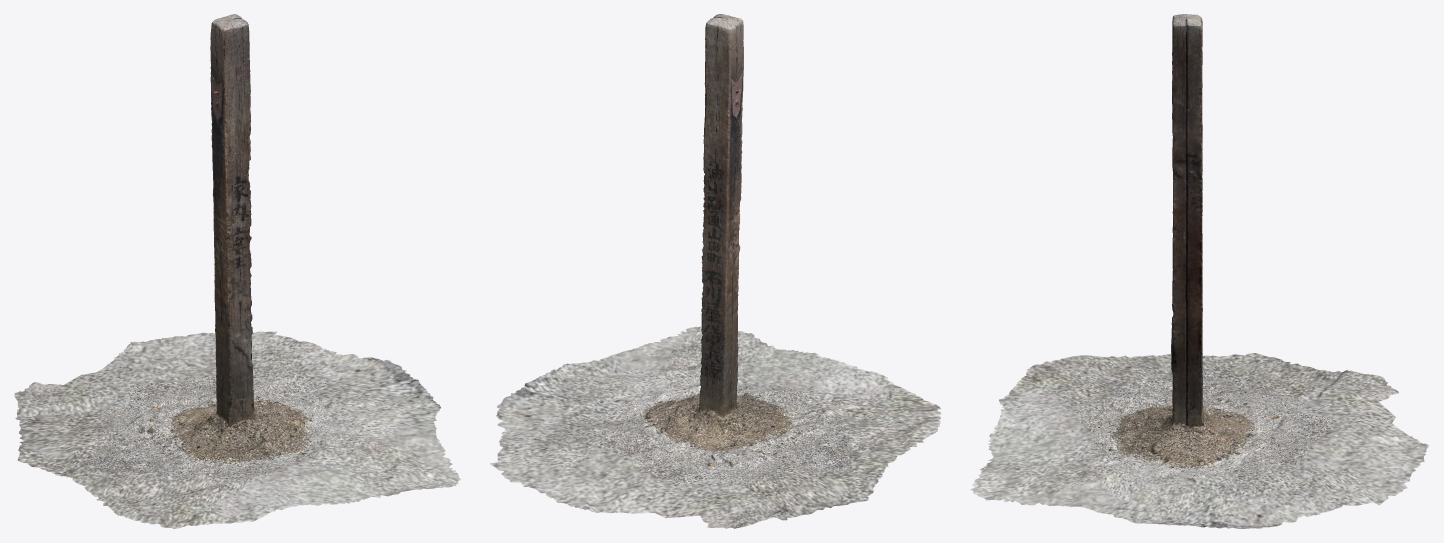
File: poteau-bois-temple.glb
The picture shows the model from 3 angles, left to right: view 1: azimuth 30°, elevation 25°; view 2: azimuth 150°, elevation 25°; view 3: azimuth 270°, elevation 25°; orthographic projection.
Visible parts, largest first — view 1: mesh; view 2: mesh; view 3: mesh.
Part boxes in pixels (x1,y1,x2,y2): mesh: (14, 14, 460, 528); mesh: (490, 14, 941, 528); mesh: (970, 14, 1428, 528).
Bounding box in the file's own units: 1.6 × 1.72 × 1.69.
1 material, 1 textured.
